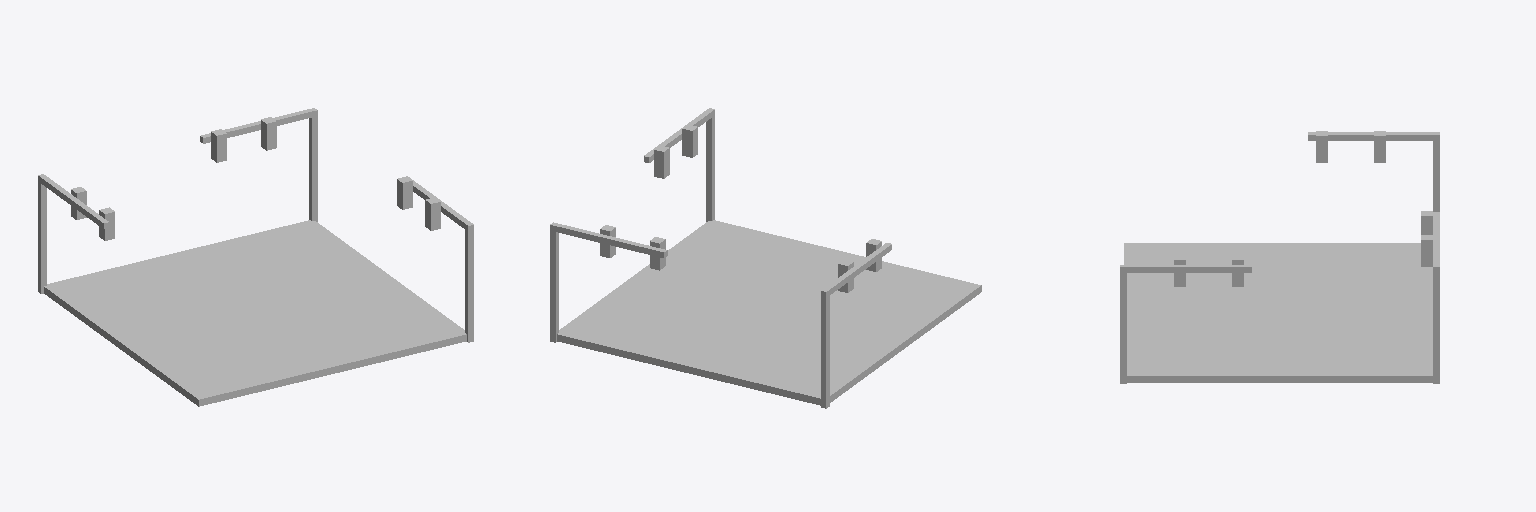
File: inter2220.obj
The picture shows the model from 3 angles: view 1: azimuth 30°, elevation 25°; view 2: azimuth 150°, elevation 25°; view 3: azimuth 270°, elevation 25°; orthographic projection.
Parts seen in each view (by area): view 1: 2220_intersection_Plane.004; view 2: 2220_intersection_Plane.004; view 3: 2220_intersection_Plane.004.
Boxes of the visible parts, x1=… form: 2220_intersection_Plane.004: x1=38, y1=108, x2=473, y2=406; 2220_intersection_Plane.004: x1=550, y1=108, x2=981, y2=408; 2220_intersection_Plane.004: x1=1120, y1=131, x2=1439, y2=383.
Size of the model in its own units: 4.08 by 1.71 by 4.08.